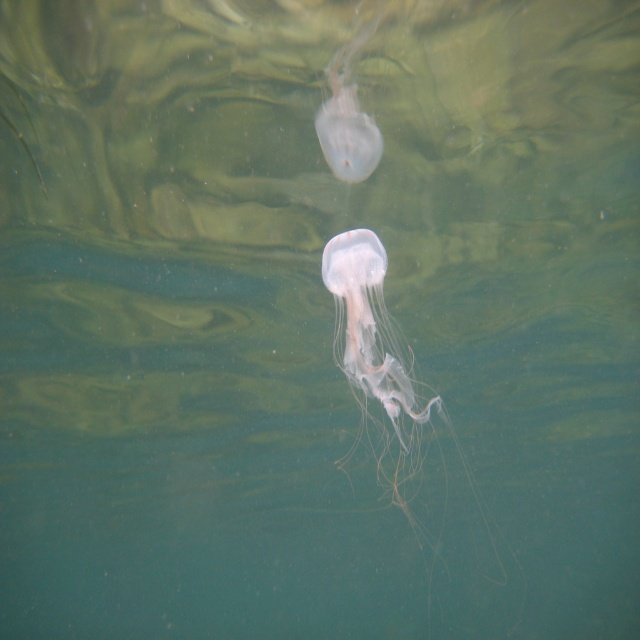Jellyfish: (281, 225, 526, 639)
